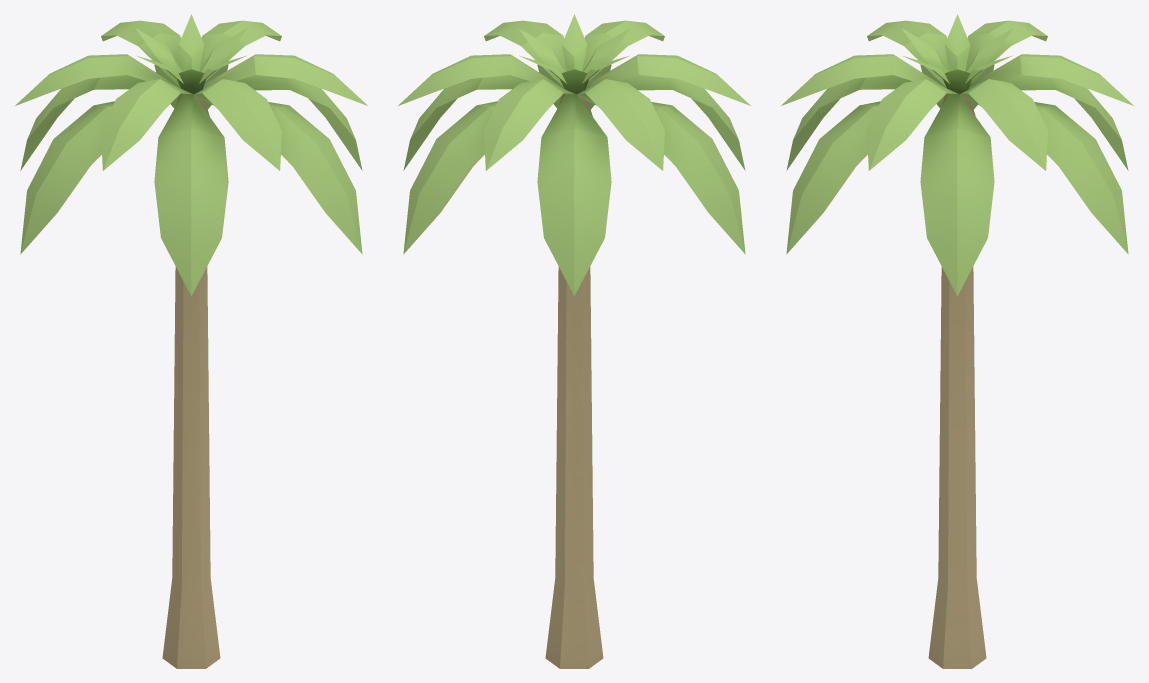
3 views of the same model, side by side, from view 1: azimuth 30°, elevation 25°; view 2: azimuth 150°, elevation 25°; view 3: azimuth 270°, elevation 25° (orthographic).
Visible parts, largest first — view 1: Palm; view 2: Palm; view 3: Palm.
Part boxes in pixels (<box>): Palm: <box>15,14,367,668</box>; Palm: <box>398,14,750,668</box>; Palm: <box>781,14,1133,668</box>.
Bounding box in the file's own units: 11.62 × 20.01 × 10.42.
1 material, 1 textured.
